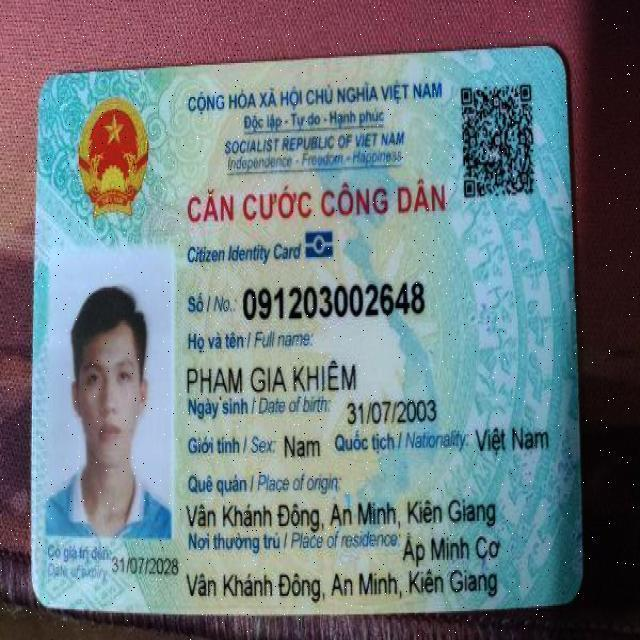current_place: (185, 569, 499, 607), (399, 531, 504, 565)
dob: (343, 393, 439, 427)
expire_date: (108, 549, 181, 580)
gender: (283, 429, 321, 465)
id: (243, 282, 424, 319)
name: (187, 352, 358, 398)
nationality: (473, 420, 550, 456)
origin_place: (180, 496, 498, 530)
